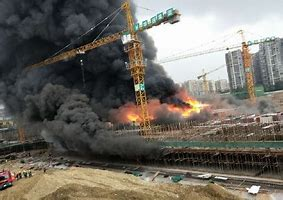smoke: (1, 1, 170, 130)
